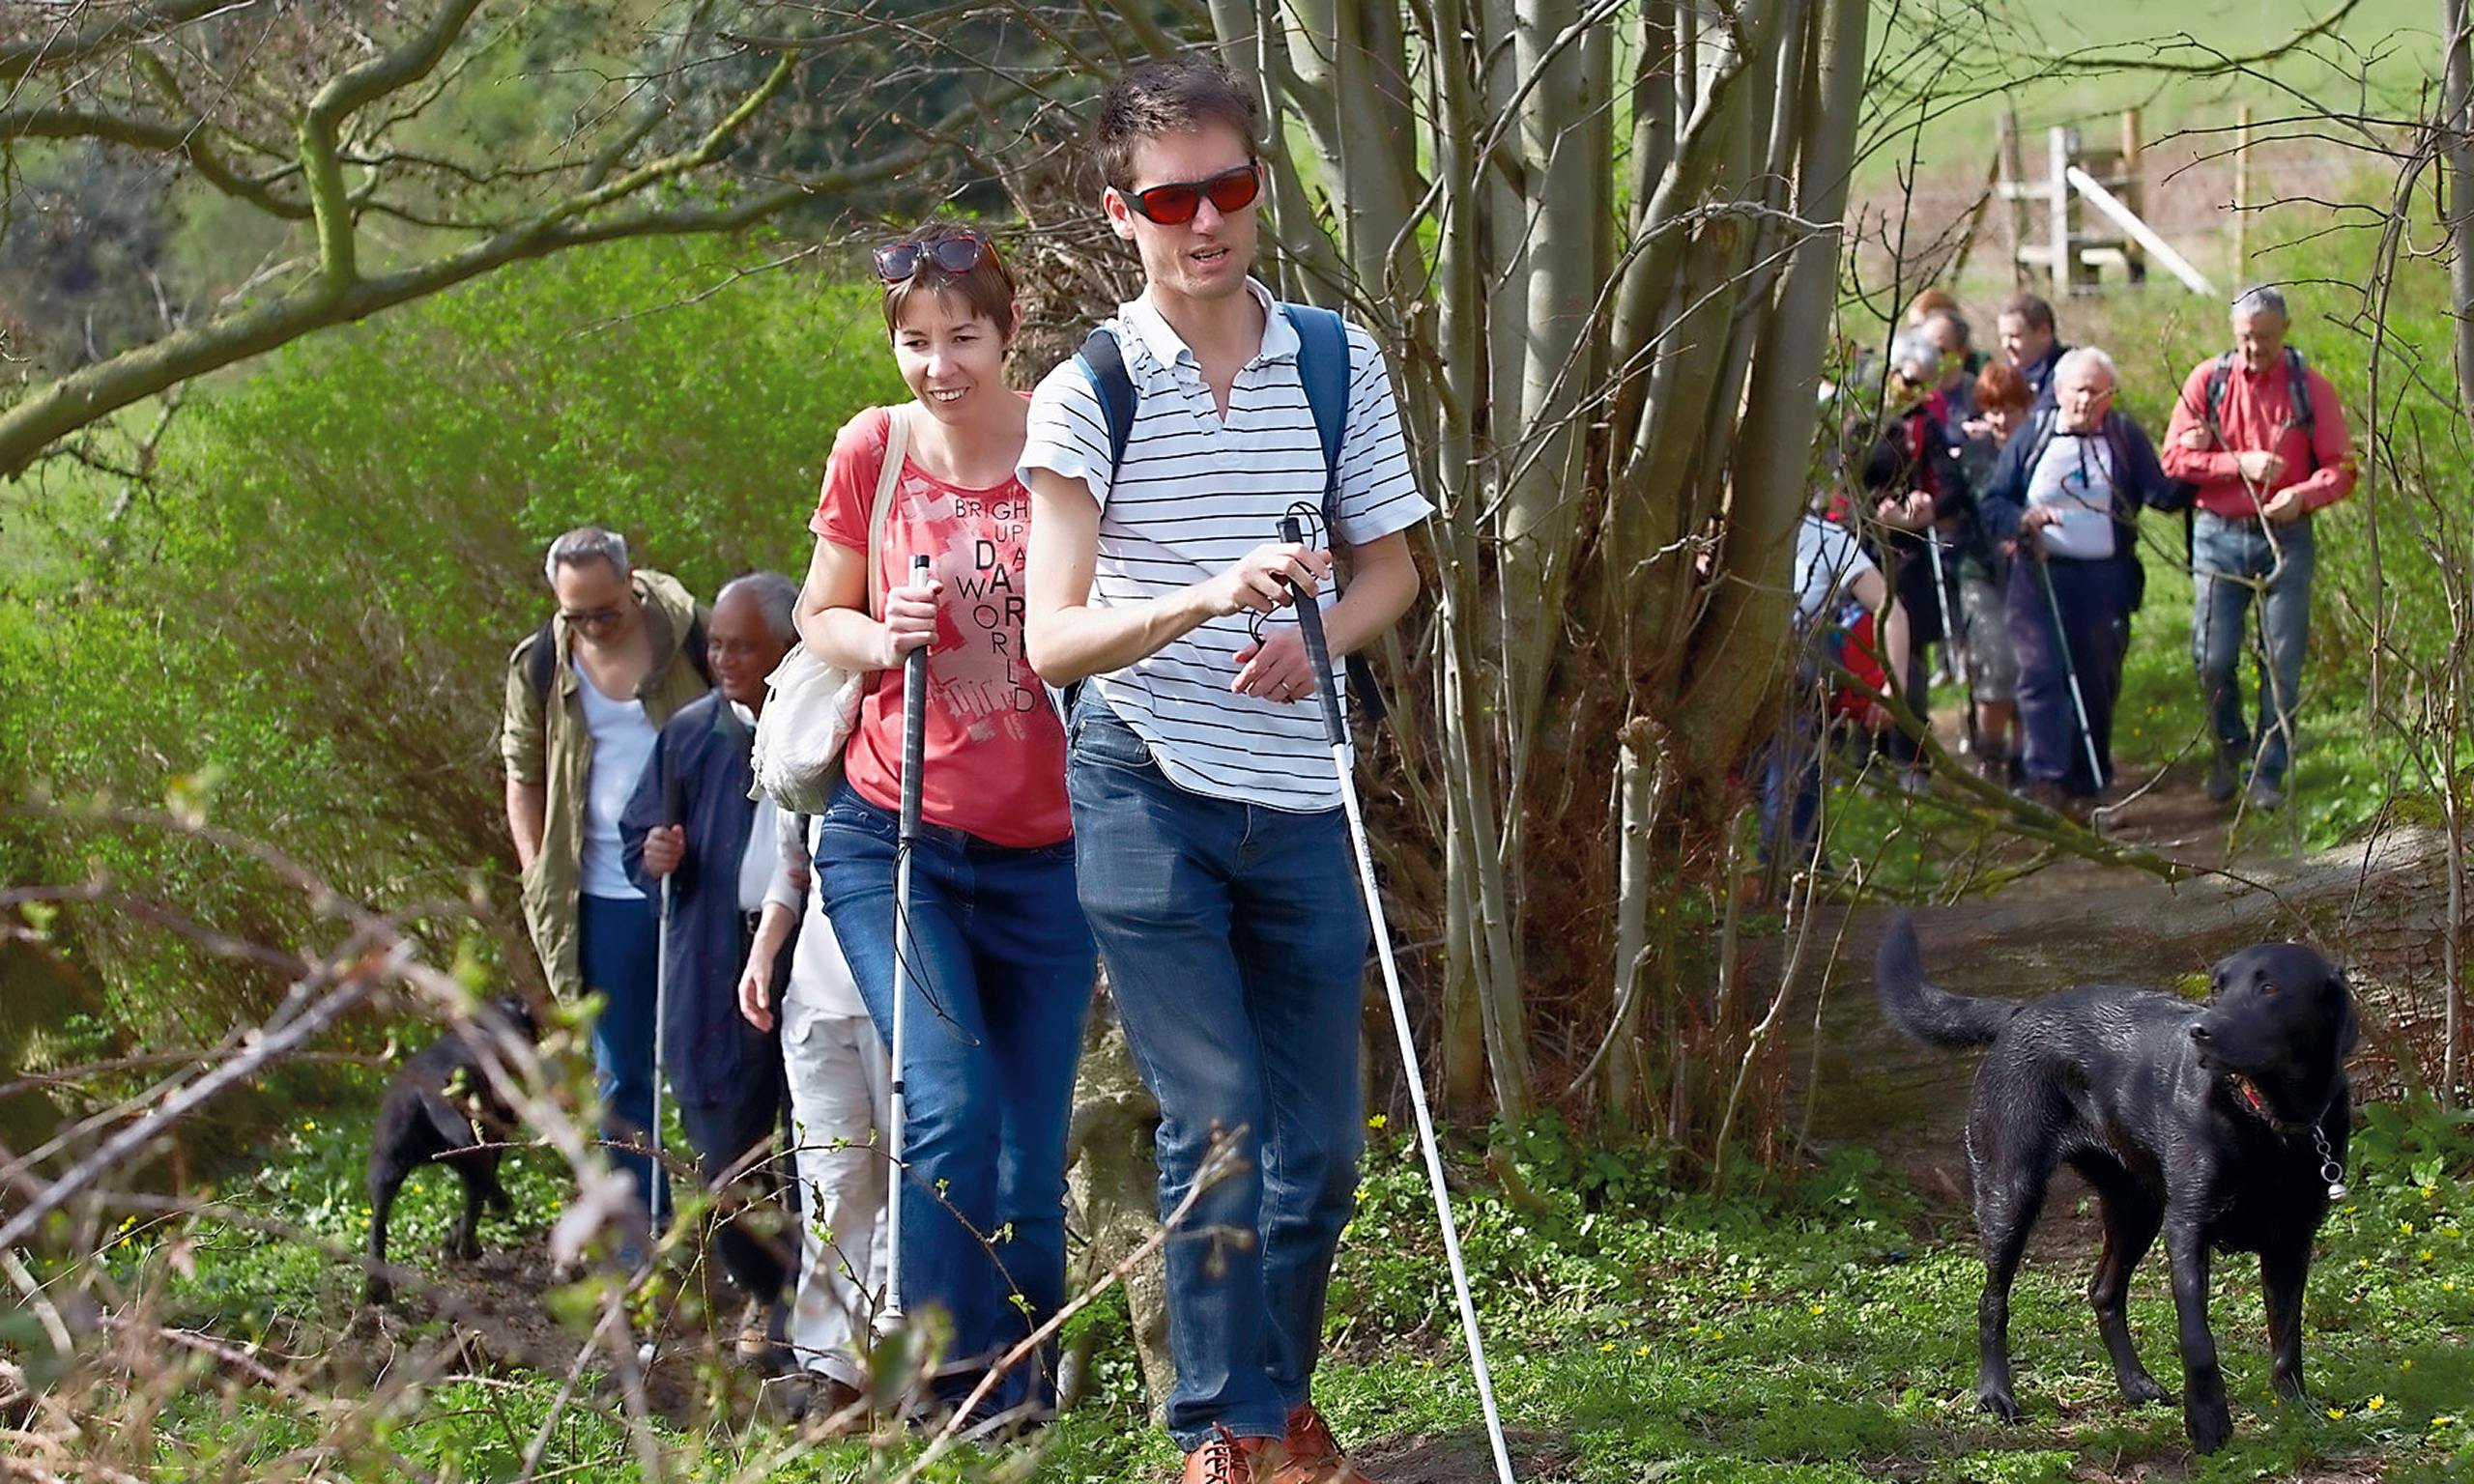bad: (1126, 161, 1274, 311), (882, 300, 1007, 426), (2149, 1351, 2191, 1394)
